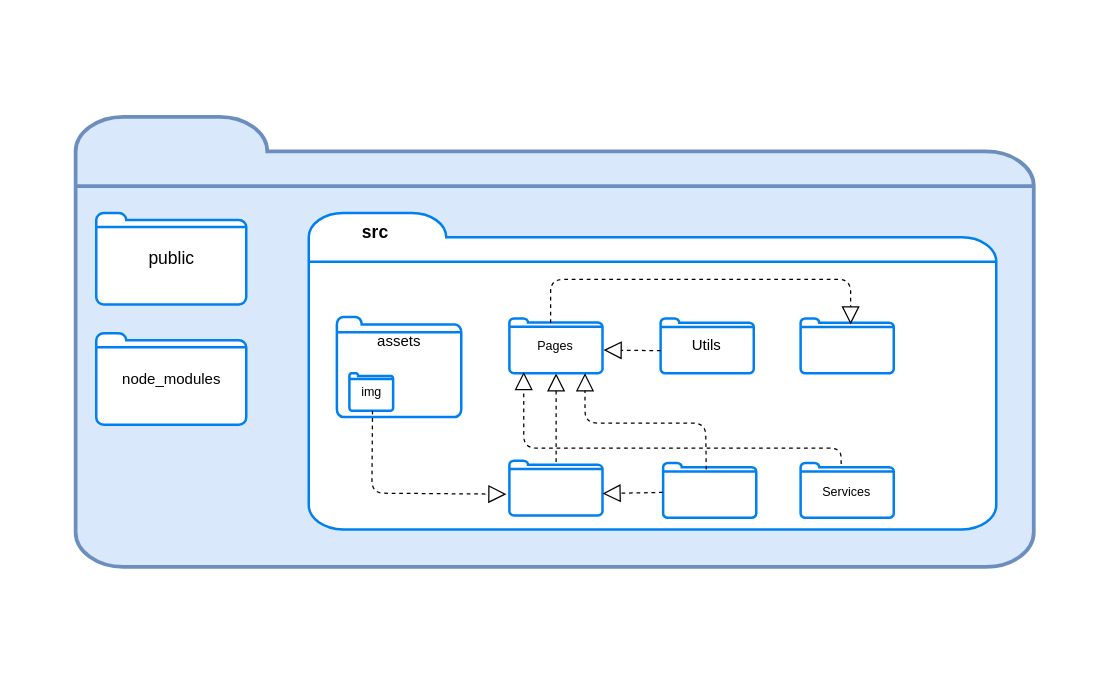
Image size: 1093x693. Some labels were removed from this diagram. The centre of each missing label's shape, as x and y in pixels:
Components: point 555,487
Constants: point 709,489
Routes: point 846,345
